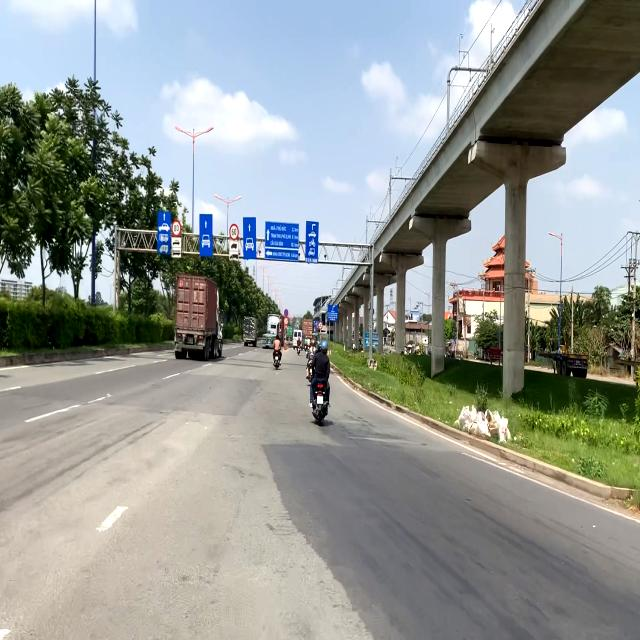P.127: (229, 224, 239, 242), (172, 220, 181, 237)
